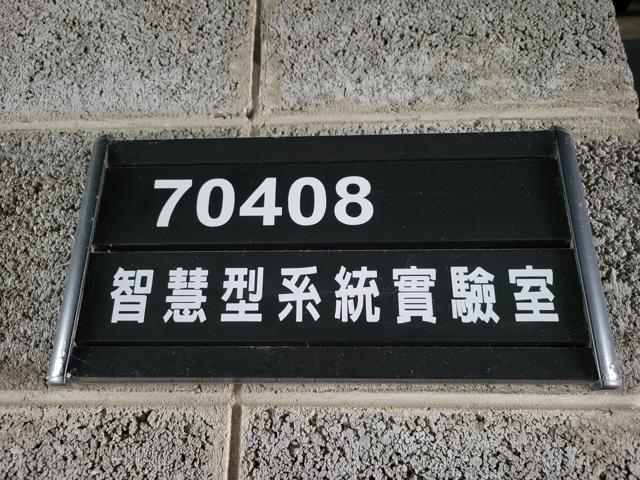doorplate: (45, 121, 627, 396)
